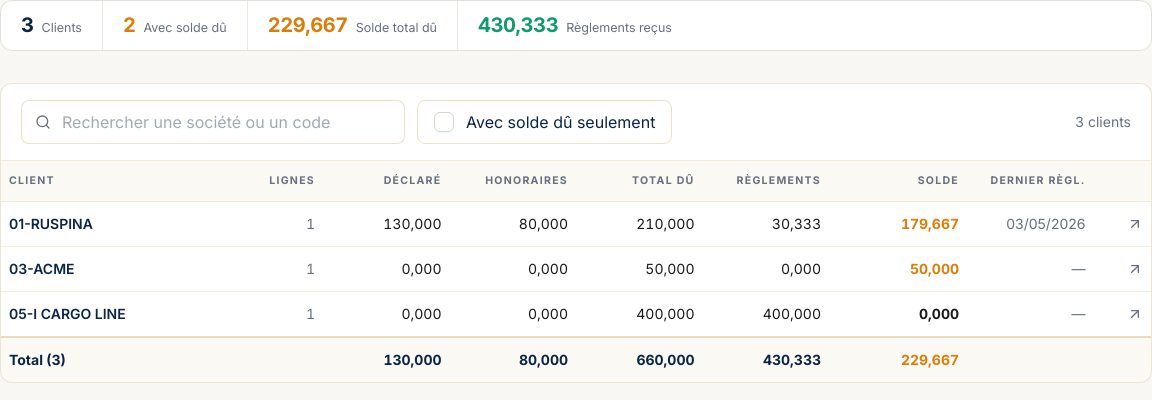
récapitulatif de tous les clients › ne garde que les clients avec solde dû sur demande
What coordinates should you click on to do the following:
click the checkbox named "Avec solde dû seulement"
I would click on:
 (444, 122)
Its box is [434,112,454,132].
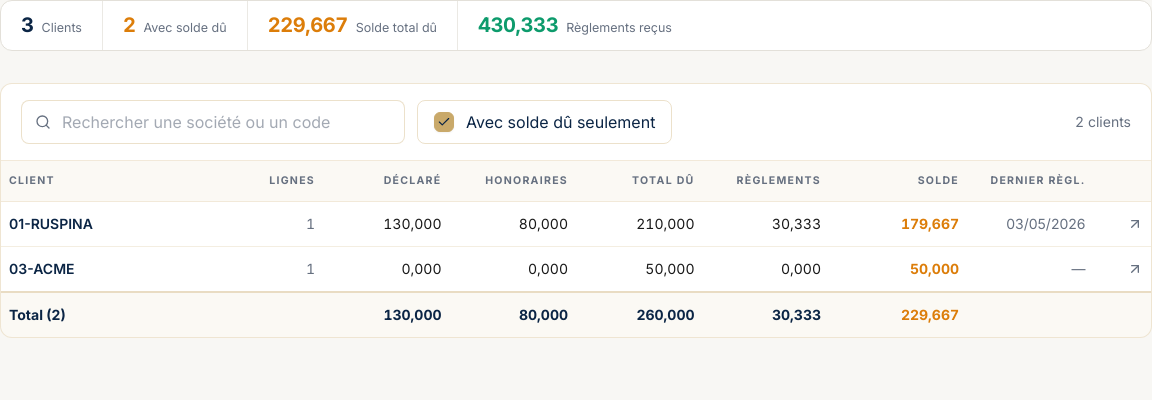
Expected: the button "01-RUSPINA" is shown, [9,214,93,234]
Now the button "05-I CARGO LINE" is gone
Now the text "Total (2)" is shown, box [1,292,254,337]
